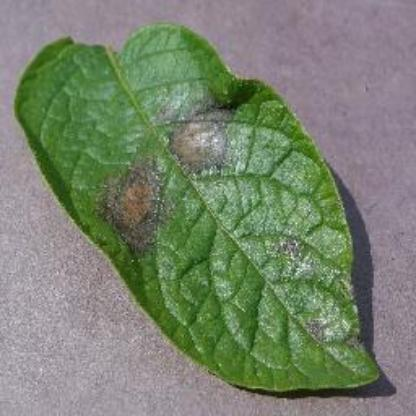Late-Blight: (14, 24, 382, 396)
